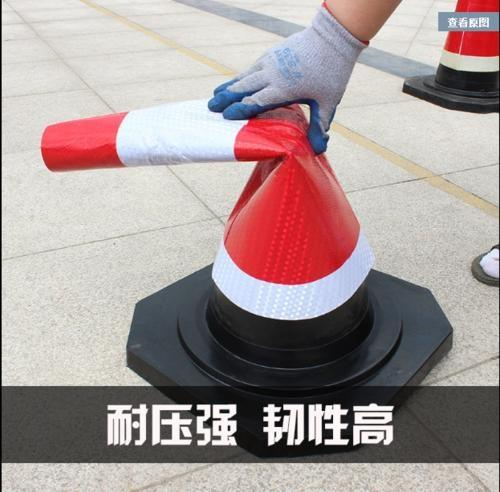cone_barrel: (178, 96, 406, 388), (424, 1, 496, 101)
